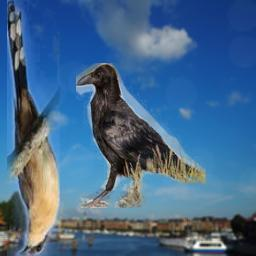Crow: (76, 63, 206, 208)
Cuckoo: (7, 0, 60, 256)
